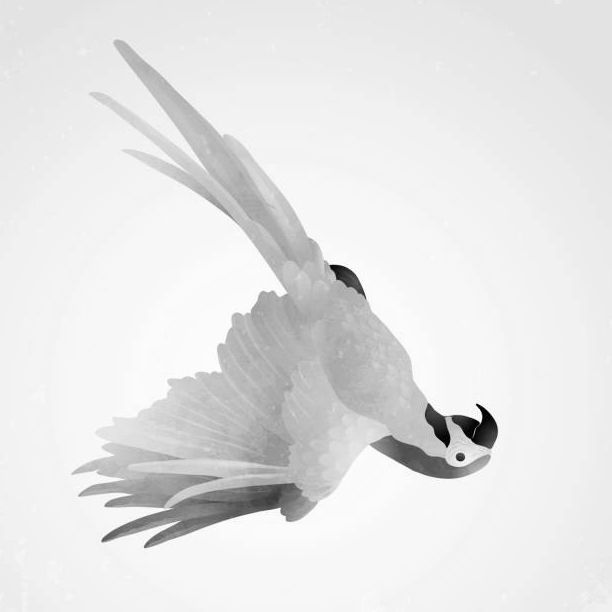Bird: (69, 34, 499, 556)
